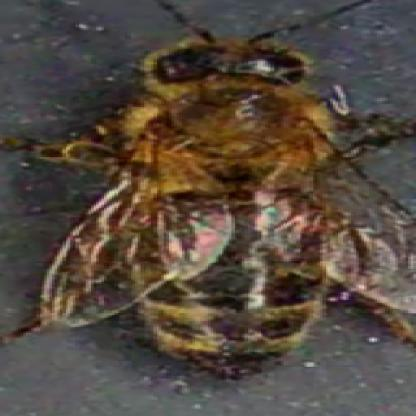bee: (119, 33, 330, 370)
